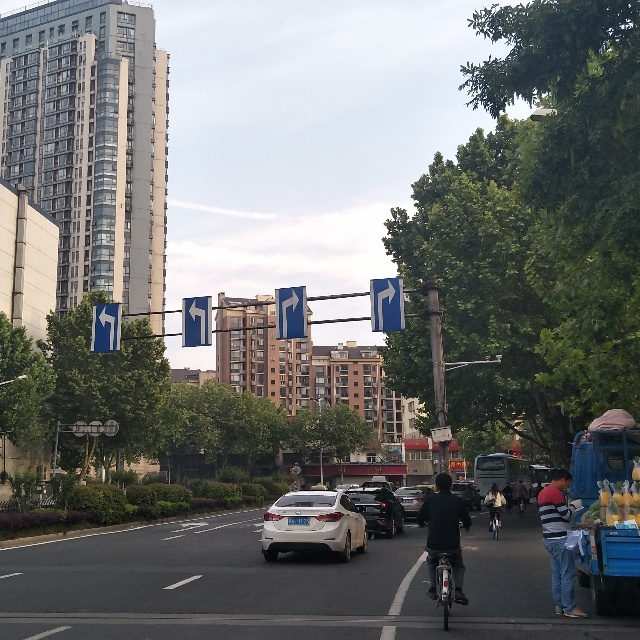left: (182, 296, 212, 347), (90, 303, 120, 352)
right: (370, 277, 406, 333), (275, 286, 309, 338)
